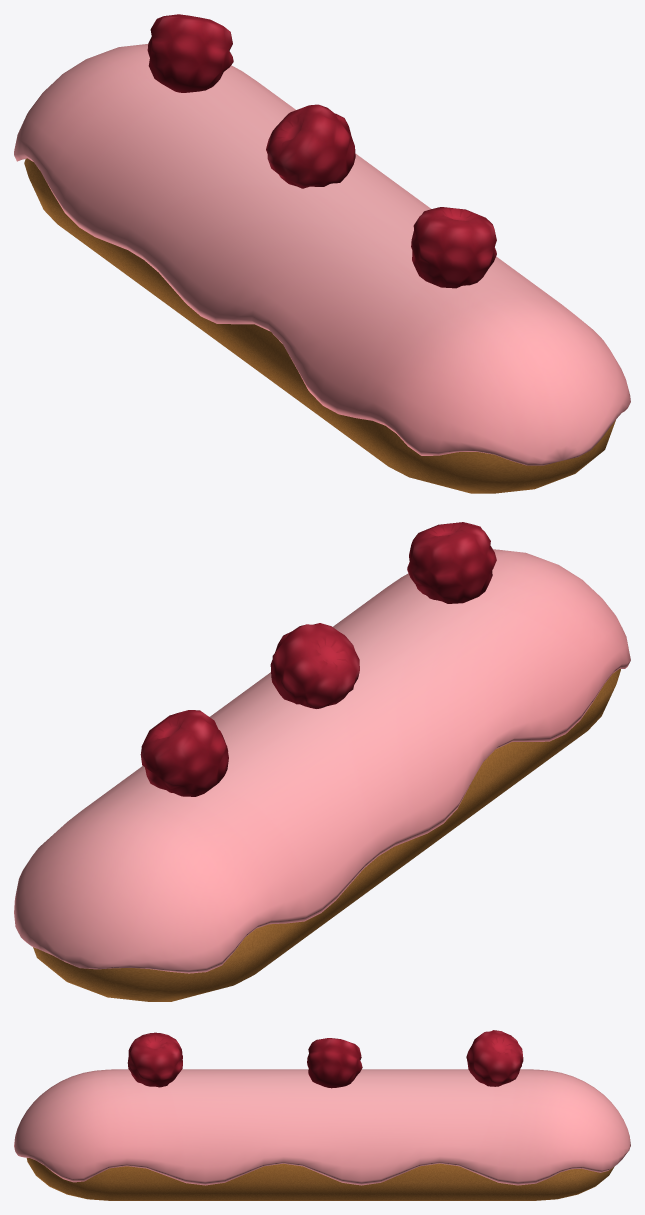
The model's file is eclare3.fbx.
3 views of the same model, one above another, from view 1: azimuth 30°, elevation 25°; view 2: azimuth 150°, elevation 25°; view 3: azimuth 270°, elevation 25° (orthographic). The views are drawn at different scales.
Parts seen in each view (by area): view 1: Capsule003, Sphere002, Sphere001, Sphere003; view 2: Capsule003, Sphere002, Sphere003, Sphere001; view 3: Capsule003, Sphere003, Sphere001, Sphere002.
Part boxes in pixels (x1,y1,x2,y2): Capsule003: [14, 44, 630, 493]; Sphere002: [266, 104, 355, 188]; Sphere001: [411, 207, 496, 288]; Sphere003: [147, 14, 233, 92]; Capsule003: [14, 549, 630, 1001]; Sphere002: [270, 623, 359, 708]; Sphere003: [140, 710, 228, 796]; Sphere001: [407, 522, 496, 603]; Capsule003: [14, 1069, 630, 1200]; Sphere003: [466, 1030, 523, 1086]; Sphere001: [127, 1032, 182, 1087]; Sphere002: [307, 1038, 362, 1088].
Bounding box in the file's own units: 23.19 × 21.29 × 78.18.
